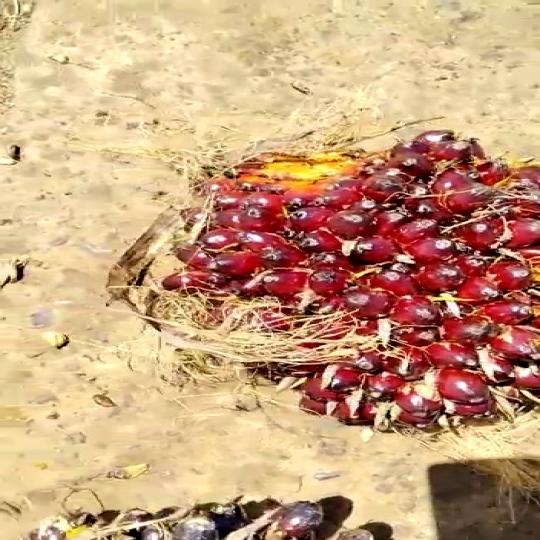kurang masak: (150, 130, 540, 448)
